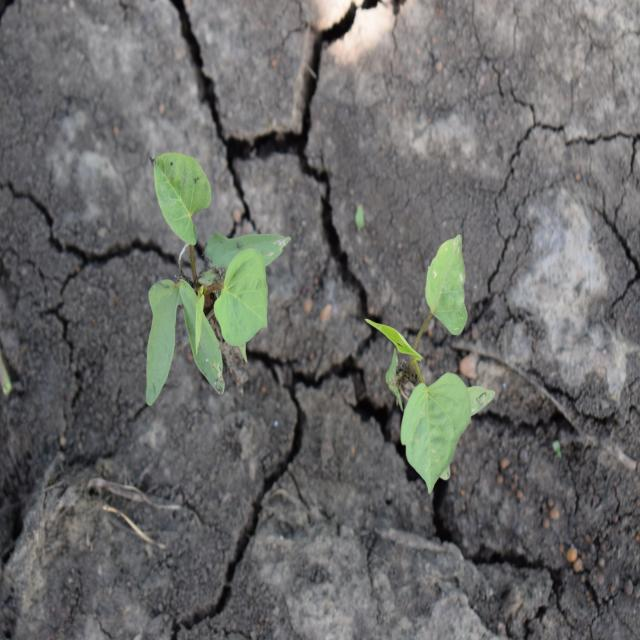MorningGlory: (144, 150, 292, 408), (363, 234, 497, 496)
